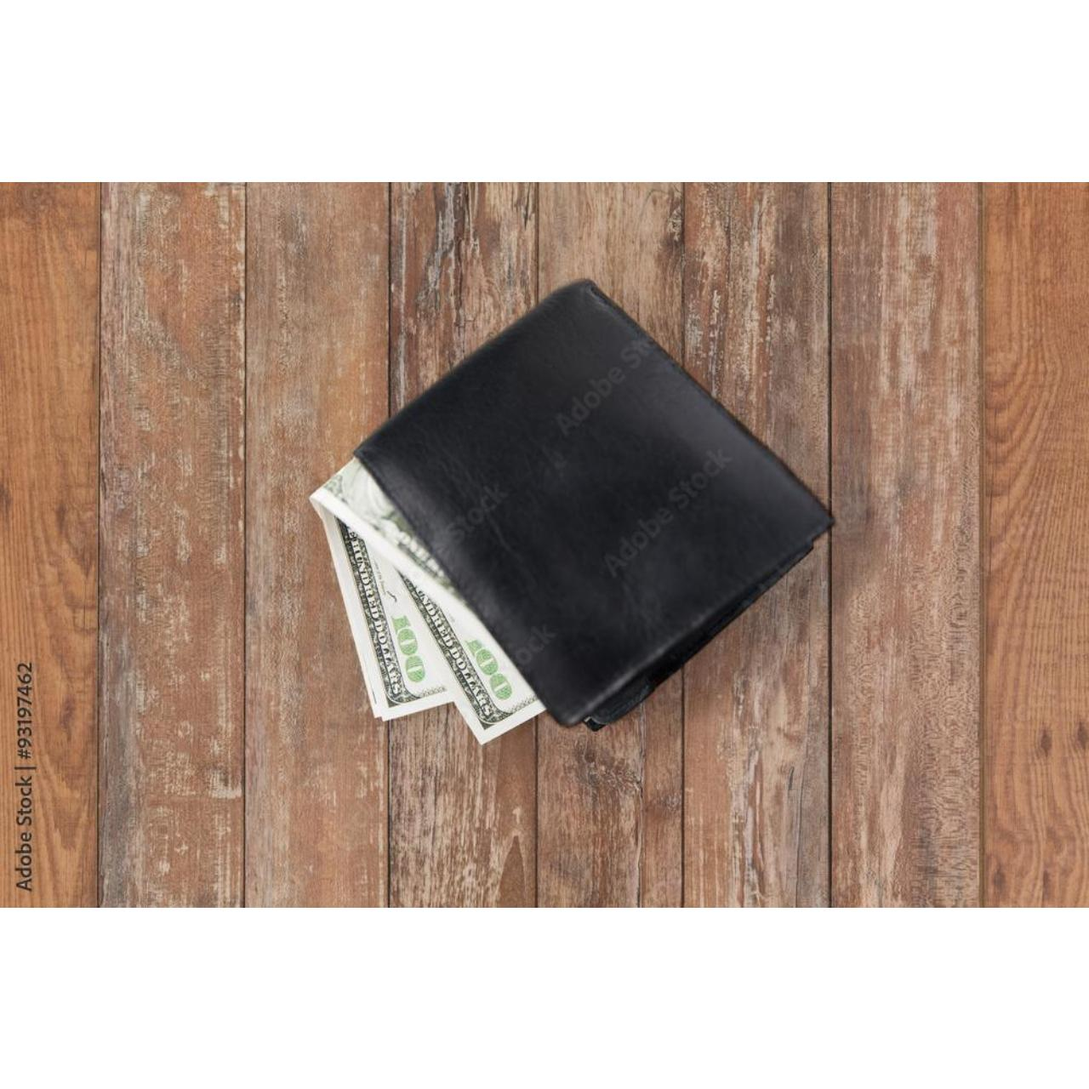wallet: (300, 244, 903, 782)
